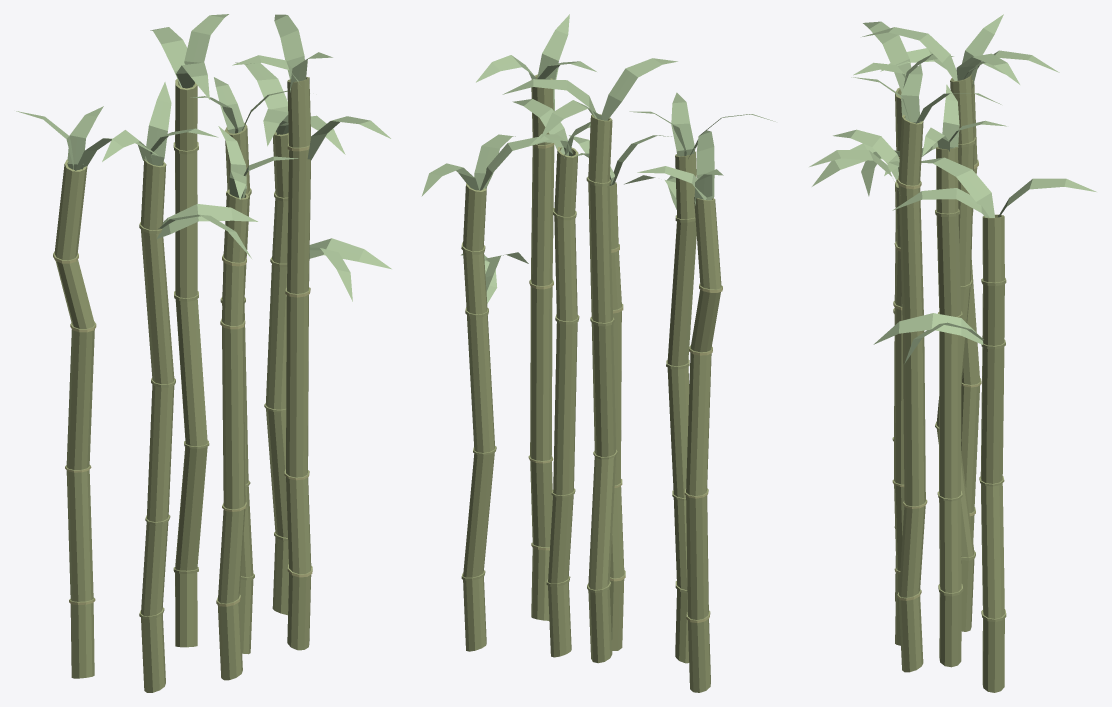
Rendered from ER_Asset_Bamboo_half.fbx.
The picture shows the model from 3 angles, left to right: view 1: azimuth 30°, elevation 25°; view 2: azimuth 150°, elevation 25°; view 3: azimuth 270°, elevation 25°; orthographic projection. The views are drawn at different scales.
Parts seen in each view (by area): view 1: polySurface6511; view 2: polySurface6511; view 3: polySurface6511.
Part boxes in pixels (x1,y1,x2,y2): polySurface6511: (16, 14, 391, 692); polySurface6511: (421, 14, 775, 692); polySurface6511: (809, 14, 1096, 692).
Bounding box in the file's own units: 3.13 × 5.7 × 2.47.
